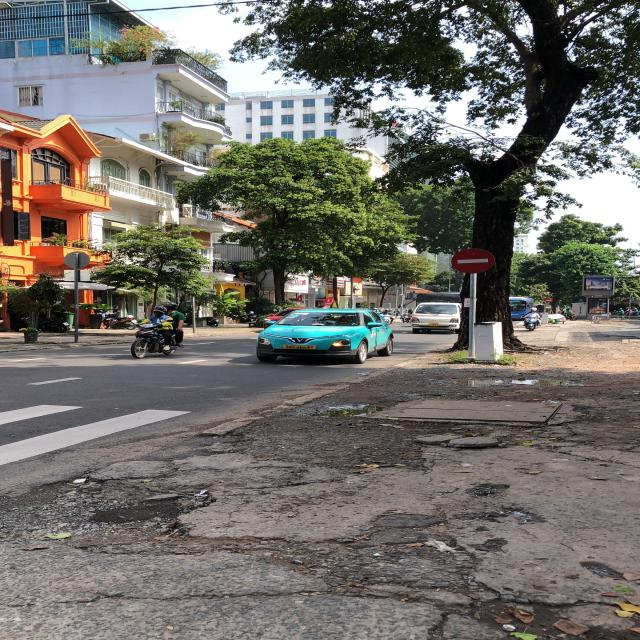Bien bao cam di nguoc chieu: (448, 246, 500, 275)
